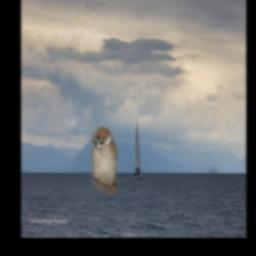Sparrow: (91, 126, 117, 195)
